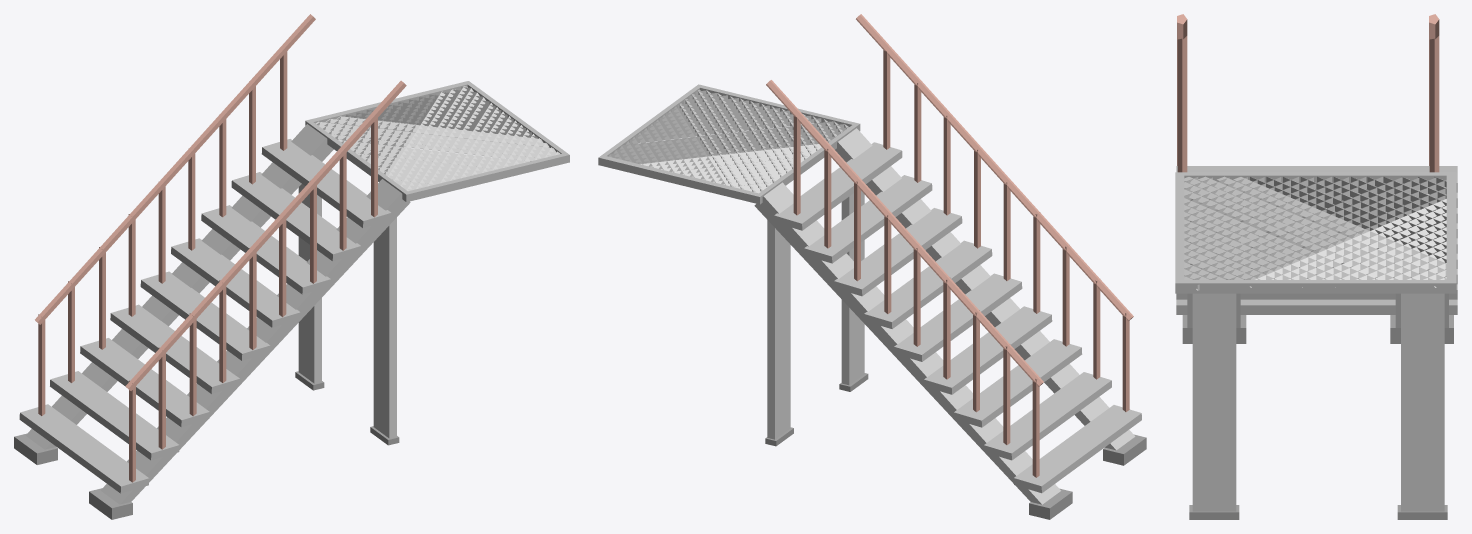
The model's file is stairs.fbx.
3 renders of one model, left to right at view 1: azimuth 30°, elevation 25°; view 2: azimuth 150°, elevation 25°; view 3: azimuth 270°, elevation 25°, orthographic. The views are drawn at different scales.
Parts seen in each view (by area): view 1: Cube_3; view 2: Cube_3; view 3: Cube_3.
Part boxes in pixels (x1=…): Cube_3: x1=14, y1=14, x2=569, y2=519; Cube_3: x1=598, y1=14, x2=1146, y2=519; Cube_3: x1=1175, y1=14, x2=1457, y2=519.
Size of the model in its own units: 543 by 419 by 209.
